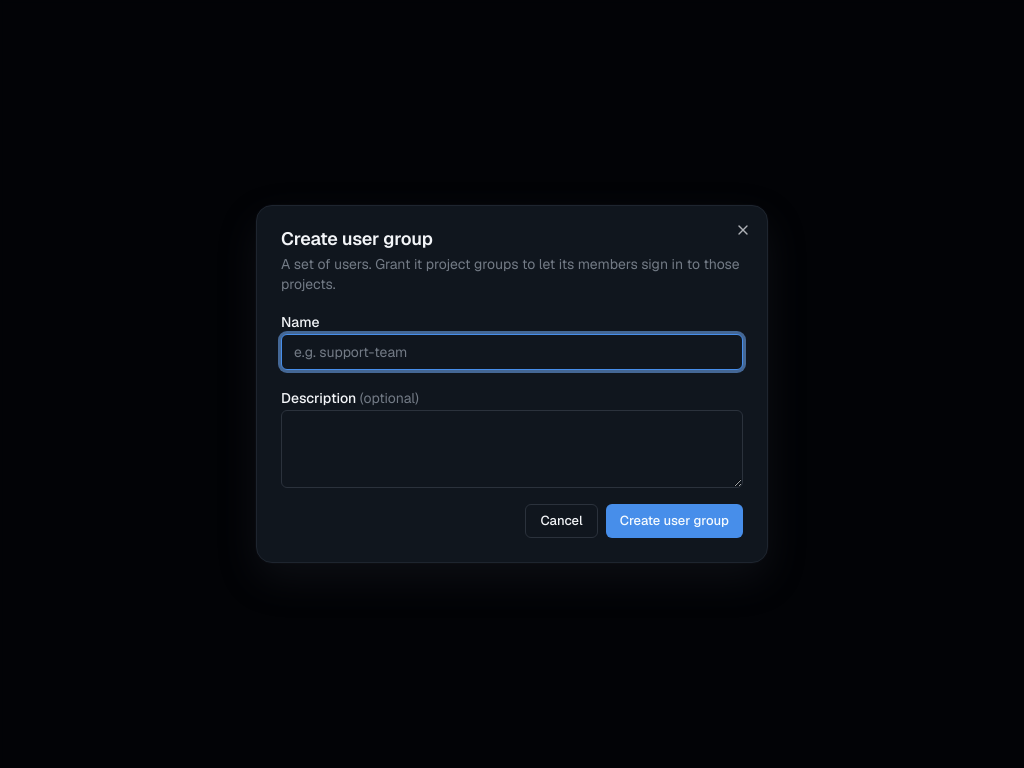
it: GroupFormModal › stops non-root operators from creating admin_ user groups
The width and height of the screenshot is (1024, 768).
Type "Admin_payments" into the field labelled "Name". click: (512, 352)
box: left=281, top=334, right=743, bottom=370
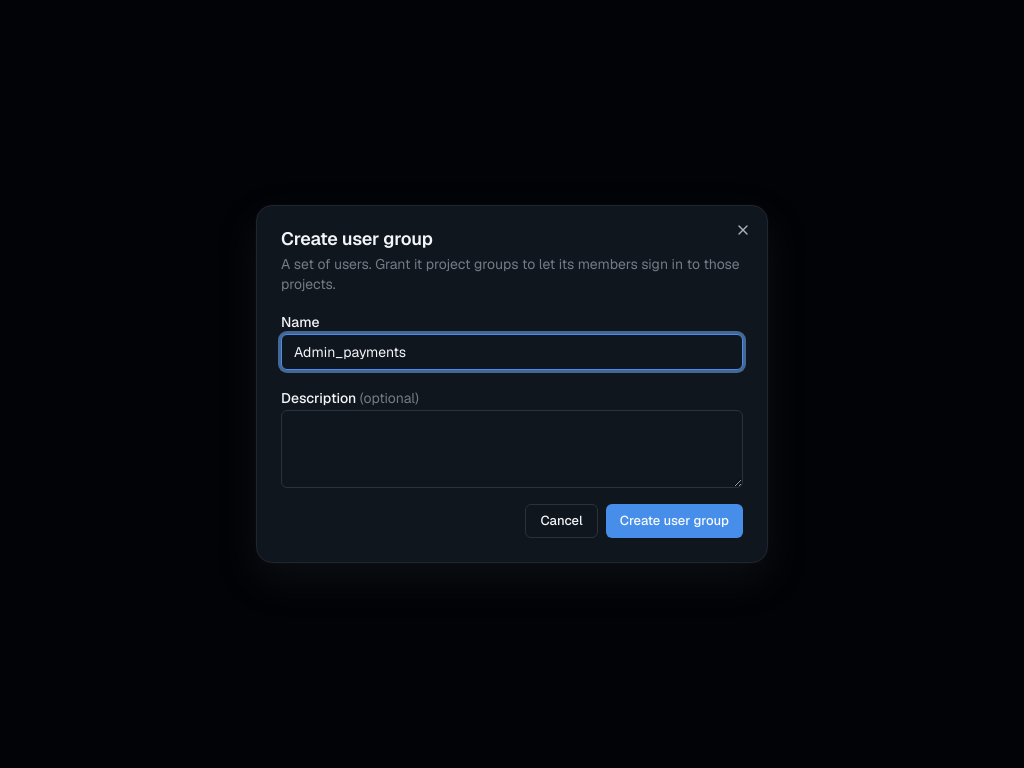
Click the button "Create user group". click: (674, 521)
box: left=606, top=504, right=743, bottom=538
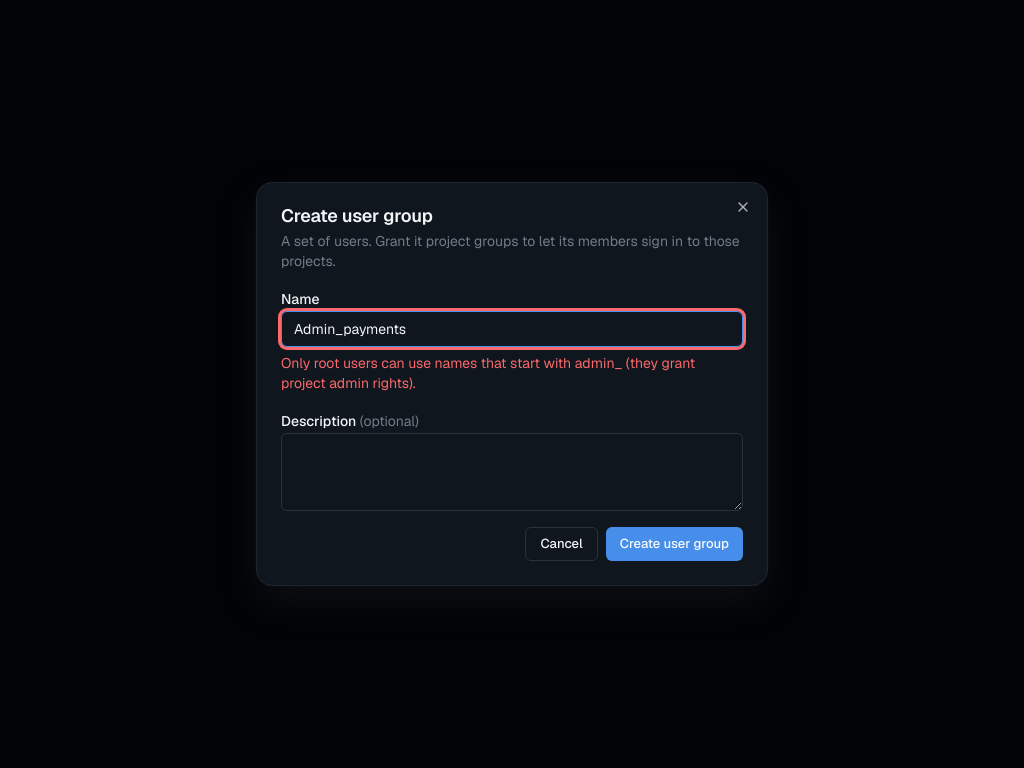
Now the text "Only root users can use names that start with admin_" is shown, box left=281, top=354, right=695, bottom=392
